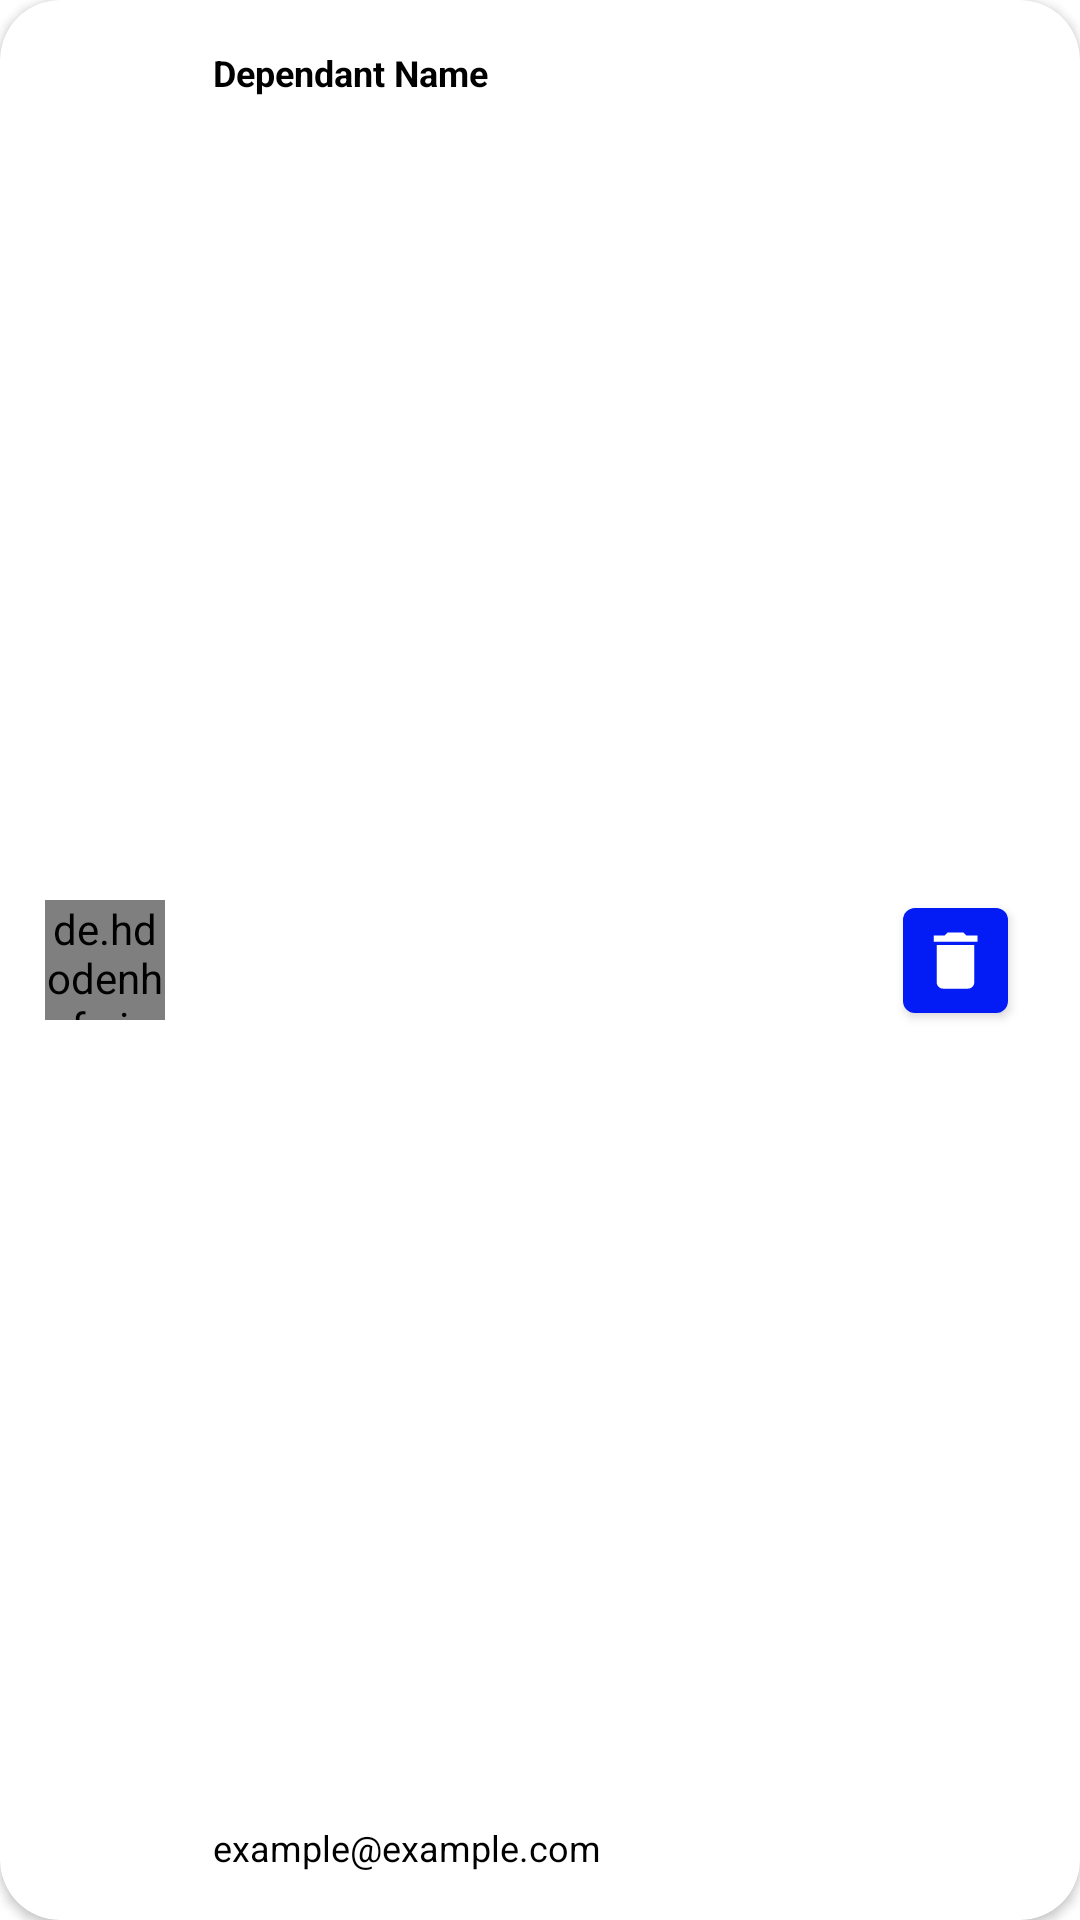

Named icons in this screenshot (1080 x 1920) and their bounding boxes, (x1, y1, x2, y2):
delete: (903, 908, 1008, 1013)
